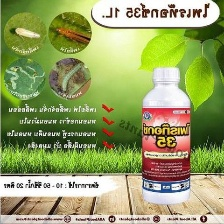insecticide: (139, 64, 196, 206)
